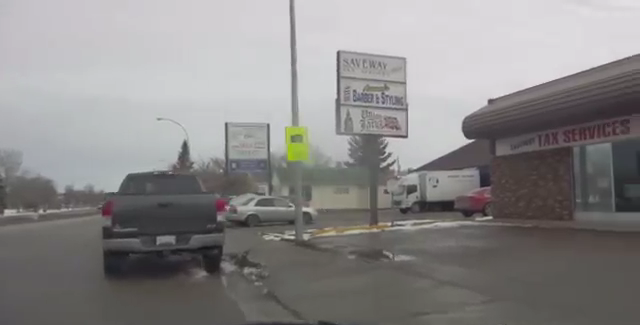bus: (383, 167, 481, 213)
car: (99, 170, 227, 274), (225, 195, 318, 226), (455, 184, 495, 218)
